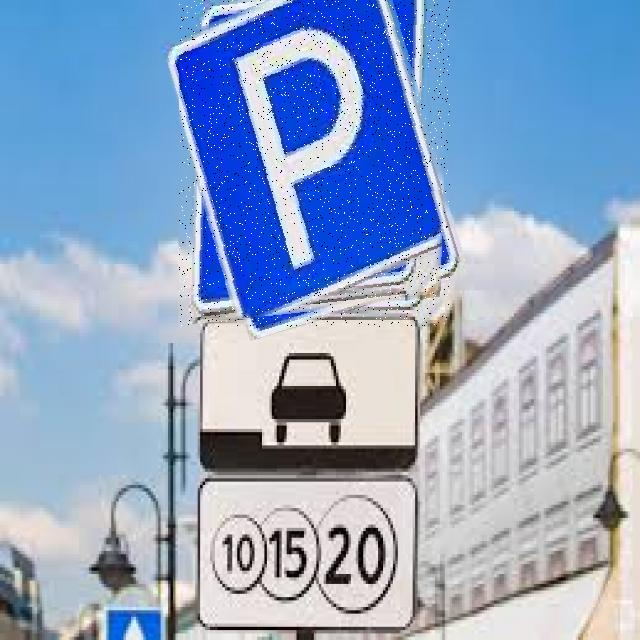parking: (179, 0, 450, 327)
